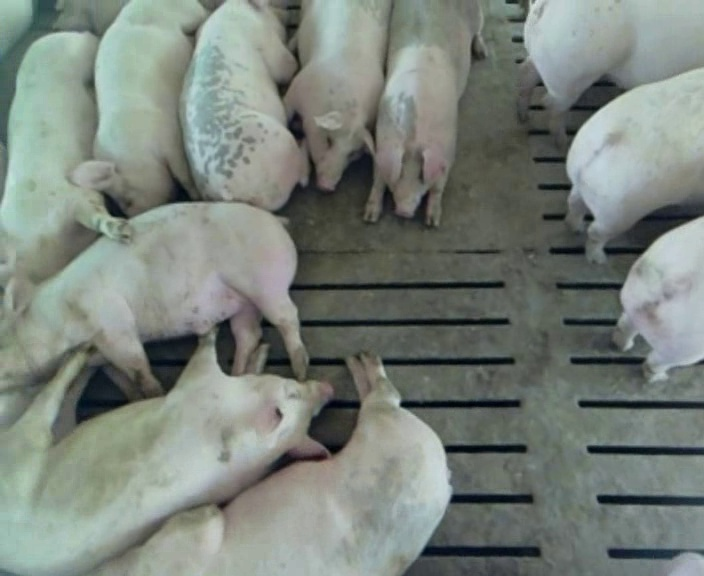pig: (0, 330, 331, 571), (94, 353, 449, 573), (0, 204, 307, 398), (0, 32, 127, 289), (72, 2, 206, 215), (364, 2, 486, 225), (518, 2, 703, 148), (566, 68, 703, 262), (180, 1, 307, 210), (284, 2, 389, 190), (613, 216, 703, 381)
